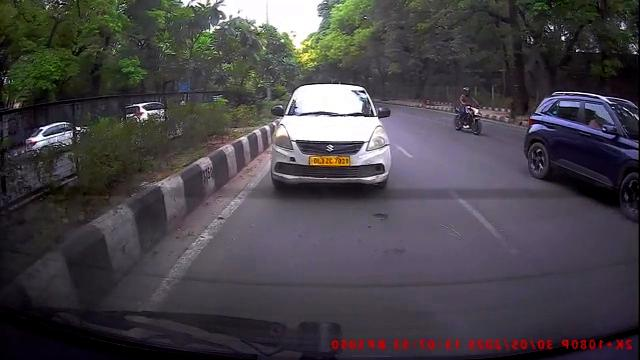motorcycle_with_helmet: (453, 85, 482, 137)
